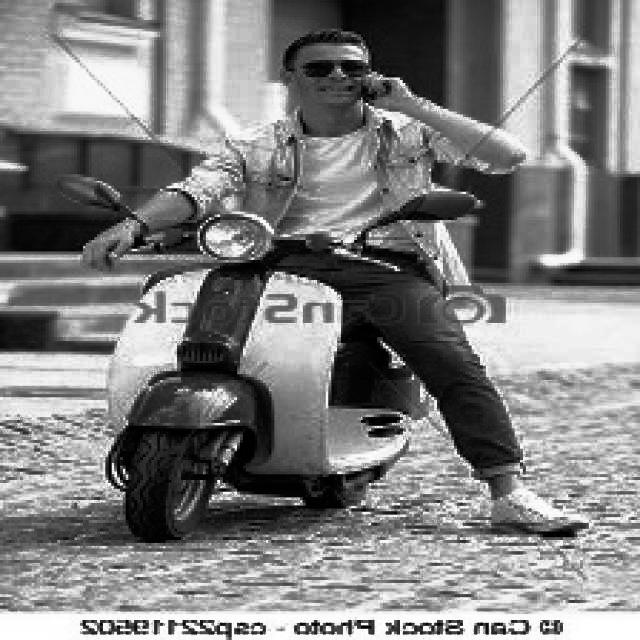Bike: (100, 223, 427, 550)
